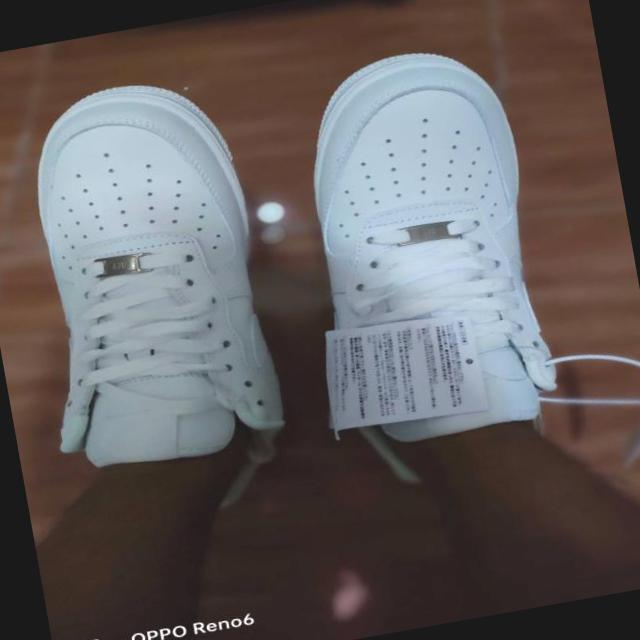nike_fake_airforce: (0, 66, 301, 537), (280, 31, 580, 492)
